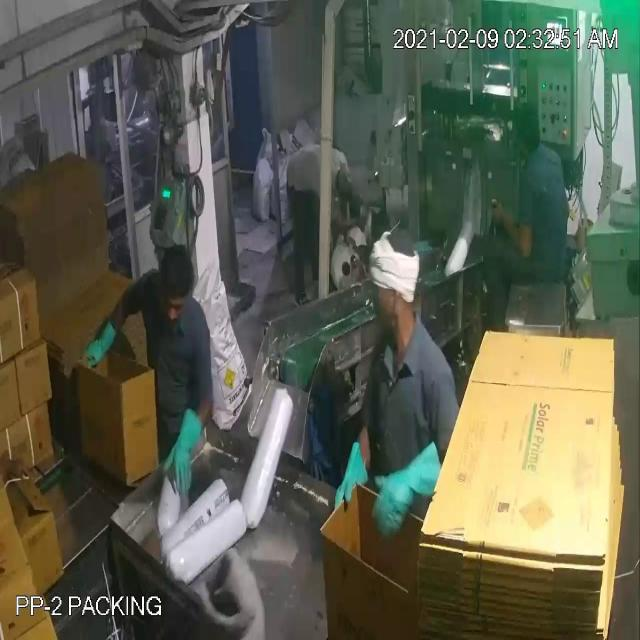Gloves: (52, 78, 514, 494)
